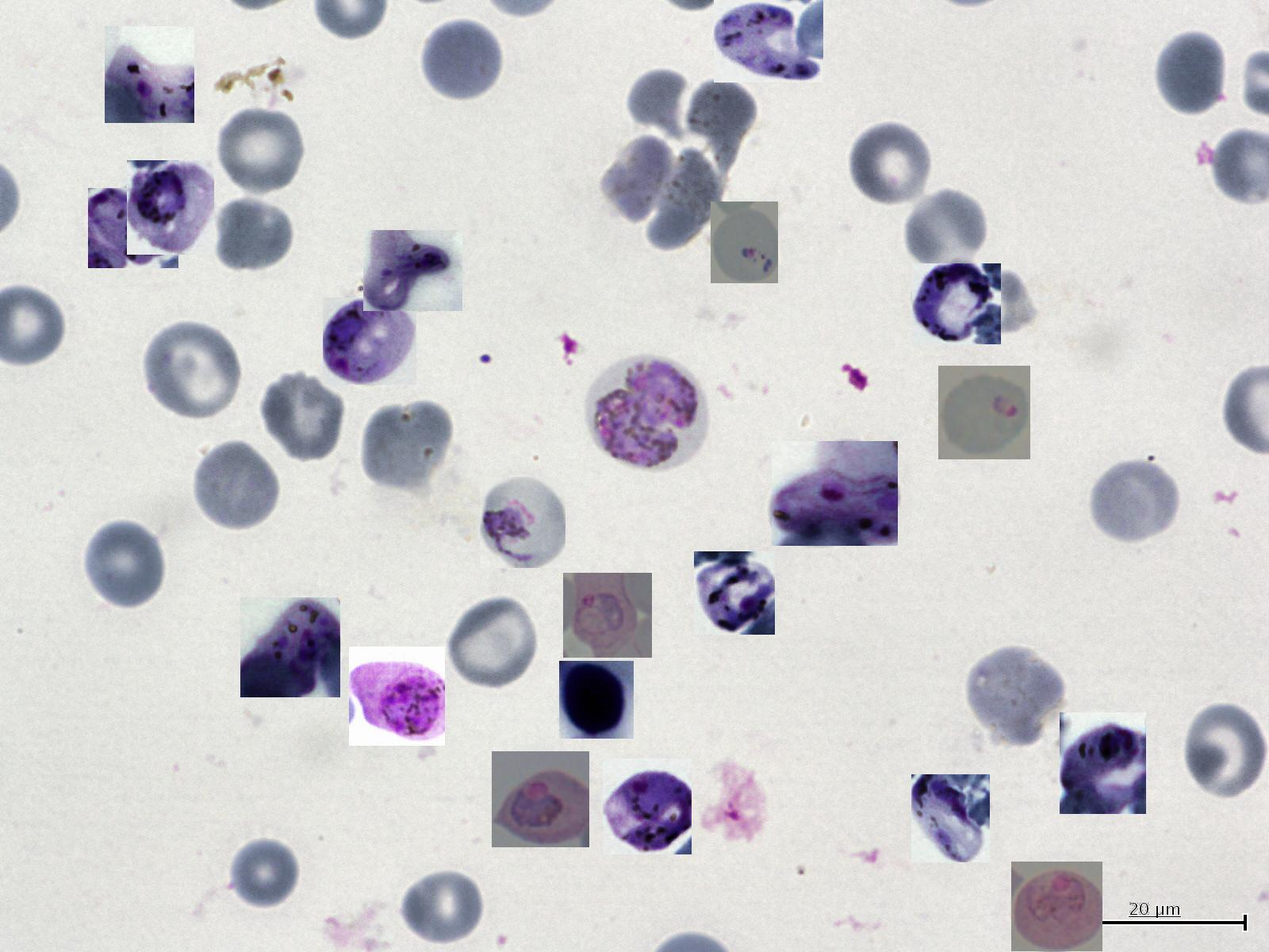Infected: (585, 354, 711, 473), (772, 441, 898, 546), (240, 597, 340, 697), (349, 647, 445, 746), (492, 751, 589, 847), (714, 0, 823, 83), (1060, 712, 1146, 814), (105, 26, 194, 123), (938, 366, 1030, 459), (603, 758, 692, 854), (127, 160, 214, 255), (1011, 862, 1102, 951), (323, 298, 416, 385), (363, 231, 462, 312), (480, 477, 565, 568), (563, 573, 652, 658), (912, 263, 1001, 344), (88, 188, 178, 268), (911, 774, 990, 862), (694, 551, 775, 635), (559, 661, 634, 739), (711, 202, 778, 283)
Uninfected: (964, 644, 1066, 747), (144, 321, 243, 423), (362, 400, 459, 497), (446, 593, 540, 692), (1181, 702, 1268, 803), (643, 144, 724, 252), (1087, 455, 1182, 545), (259, 369, 348, 464), (190, 440, 281, 532), (215, 104, 306, 196), (82, 517, 170, 610), (902, 186, 990, 278), (848, 120, 935, 209), (419, 17, 504, 102), (399, 867, 486, 948), (1152, 29, 1228, 118), (682, 77, 758, 166), (600, 138, 681, 221), (212, 196, 295, 274), (225, 834, 301, 912), (627, 69, 695, 136)
